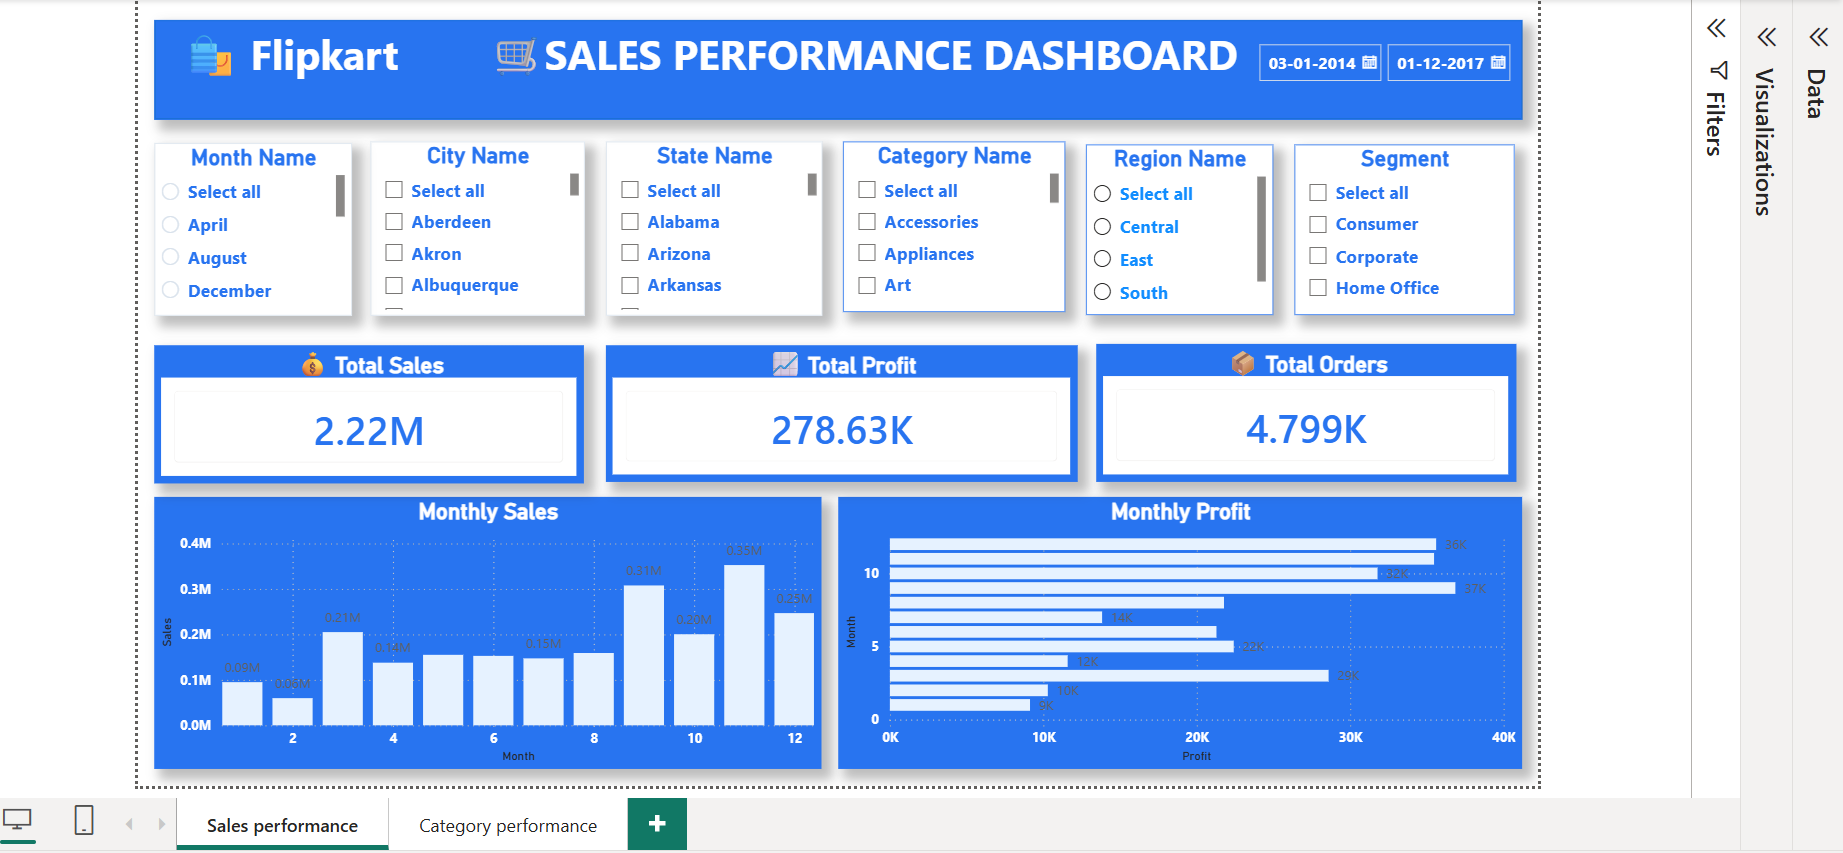

What the dashboard file says about the page in this screenshot:
{"tool":"powerbi","page":{"name":"Sales performance","canvas":[1280,720],"ordinal":0},"visuals":[{"type":"columnChart","title":" Monthly Sales ","fields":{"Y":["Sum(Superstore.Sales)"],"Category":["Superstore.Month"]},"box":[15.8,455.7,609.9,248.9],"z":0},{"type":"barChart","title":"Monthly Profit","fields":{"Y":["Sum(Superstore.Profit)"],"Category":["Superstore.Month"]},"box":[640.7,455.5,625.5,248.4],"z":1000},{"type":"textbox","box":[40.3,19.3,978,78.9],"z":2000},{"type":"cardVisual","title":"💰 Total Sales","fields":{"Data":["Sum(Superstore.Sales)"]},"box":[15.8,317.2,392.6,126.2],"z":3000},{"type":"cardVisual","title":"📈 Total Profit","fields":{"Data":["Sum(Superstore.Profit)"]},"box":[427.6,317.2,431.1,124.4],"z":4000},{"type":"cardVisual","title":"📦 Total Orders","fields":{"Data":["Count(Superstore.Order ID)"]},"box":[876.3,315.5,383.8,126.2],"z":5000},{"type":"shape","box":[15.8,19.3,1251.4,91.1],"z":6000},{"type":"textbox","box":[15.8,19.3,1251.4,91.1],"z":7000},{"type":"slicer","title":"Date","fields":{"Values":["Superstore.Order Date"]},"box":[1013,31.5,254.1,78.9],"z":8000},{"type":"slicer","title":"City Name","fields":{"Values":["Superstore.City"]},"box":[212.1,129.7,196.3,159.5],"z":9000},{"type":"slicer","title":"Category Name","fields":{"Values":["Superstore.Sub-Category"]},"box":[645,129.7,203.3,156],"z":10000},{"type":"listSlicer","fields":{"Values":["Superstore.Month Name"]},"box":[15.8,131.4,180.5,157.7],"z":11000},{"type":"slicer","title":"State Name","fields":{"Values":["Superstore.State"]},"box":[427.6,129.7,198,159.5],"z":12000},{"type":"slicer","title":"Segment","fields":{"Values":["Superstore.Segment"]},"box":[1058.6,133.2,201.6,156],"z":13000},{"type":"listSlicer","title":"Region Name","fields":{"Values":["Superstore.Region"]},"box":[867.6,133.3,171.1,156],"z":14000}]}

Visuals, with their boxes on the page's 1280x720 design canvas (x1, y1, x2, y2). These are canvas units, not pixel positions in the 1843x853 screenshot, which may show the page scaled, cropped or inside an application window:
" Monthly Sales " columnChart: 16,456,626,705
"Monthly Profit" barChart: 641,456,1266,704
textbox: 40,19,1018,98
"💰 Total Sales" cardVisual: 16,317,408,443
"📈 Total Profit" cardVisual: 428,317,859,442
"📦 Total Orders" cardVisual: 876,316,1260,442
shape: 16,19,1267,110
textbox: 16,19,1267,110
"Date" slicer: 1013,32,1267,110
"City Name" slicer: 212,130,408,289
"Category Name" slicer: 645,130,848,286
listSlicer - Superstore.Month Name: 16,131,196,289
"State Name" slicer: 428,130,626,289
"Segment" slicer: 1059,133,1260,289
"Region Name" listSlicer: 868,133,1039,289
